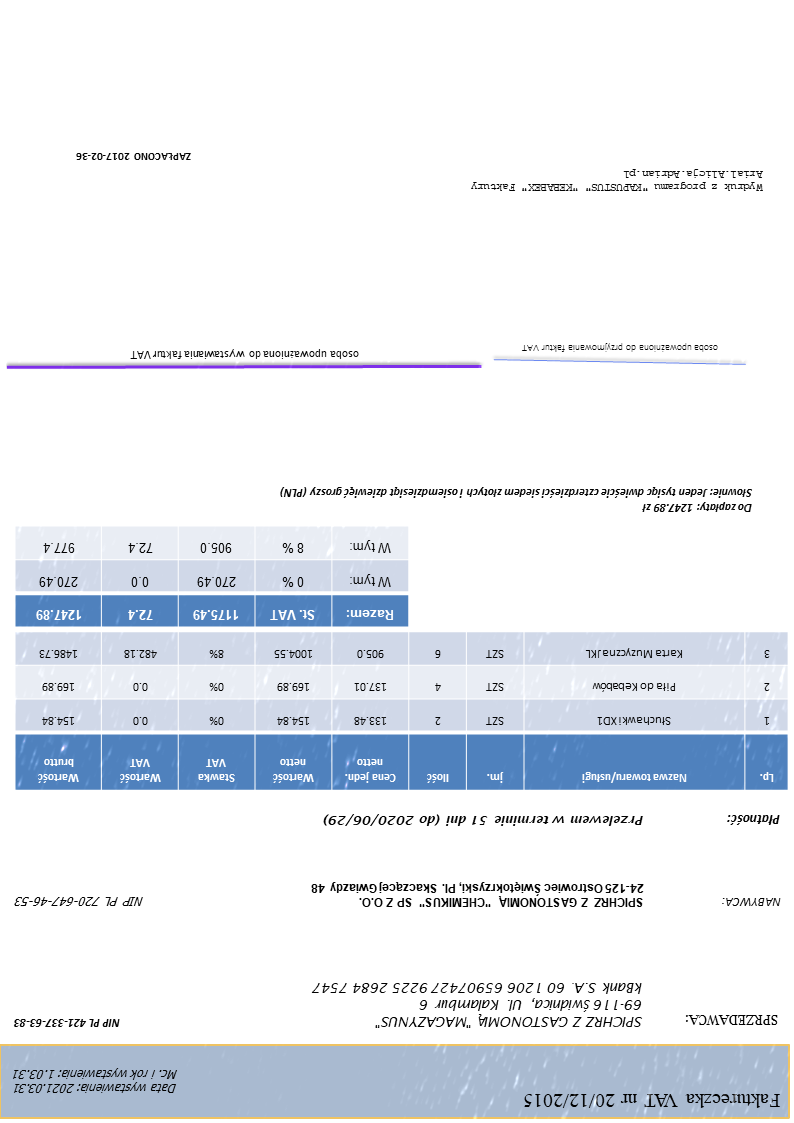Table: (15, 633, 790, 792), (14, 524, 410, 628)
TextBox: (309, 977, 647, 1032), (279, 483, 755, 517), (309, 878, 648, 912), (468, 168, 767, 194), (522, 1090, 782, 1112), (10, 1065, 179, 1098), (322, 813, 645, 829), (128, 346, 362, 362), (520, 342, 720, 356), (13, 893, 146, 910), (11, 1015, 123, 1033), (683, 1010, 782, 1029), (75, 150, 195, 165), (726, 812, 783, 829), (720, 895, 783, 910)
